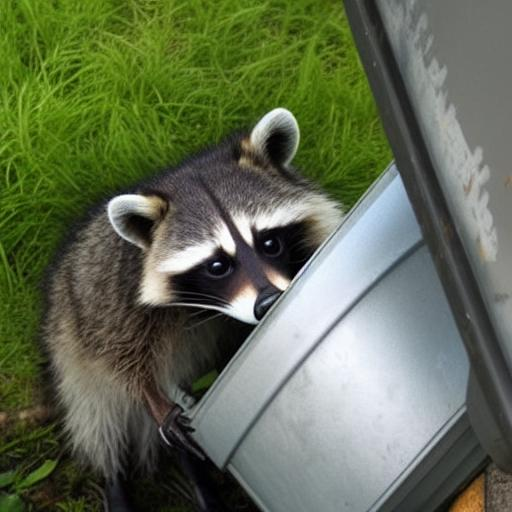raccoon: (28, 98, 358, 512)
